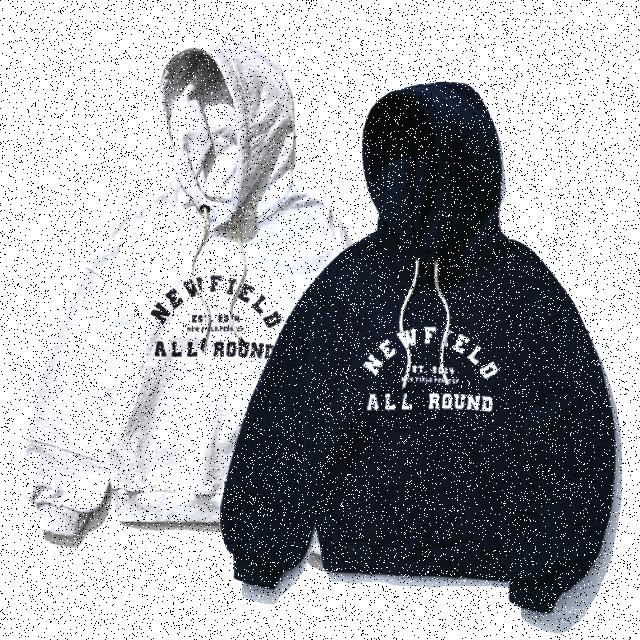Blouse_deep: (203, 69, 631, 572), (5, 10, 351, 542)
